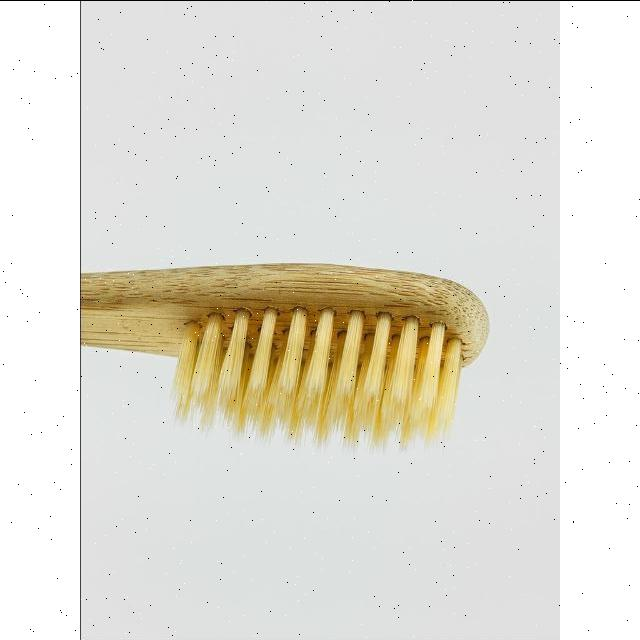toothbrush: (80, 208, 476, 504)
